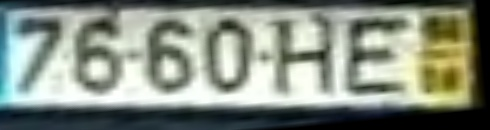0: (202, 17, 259, 99)
6: (70, 14, 131, 101), (140, 16, 202, 100)
7: (15, 16, 70, 98)
E: (343, 17, 413, 98)
H: (270, 17, 339, 100)
